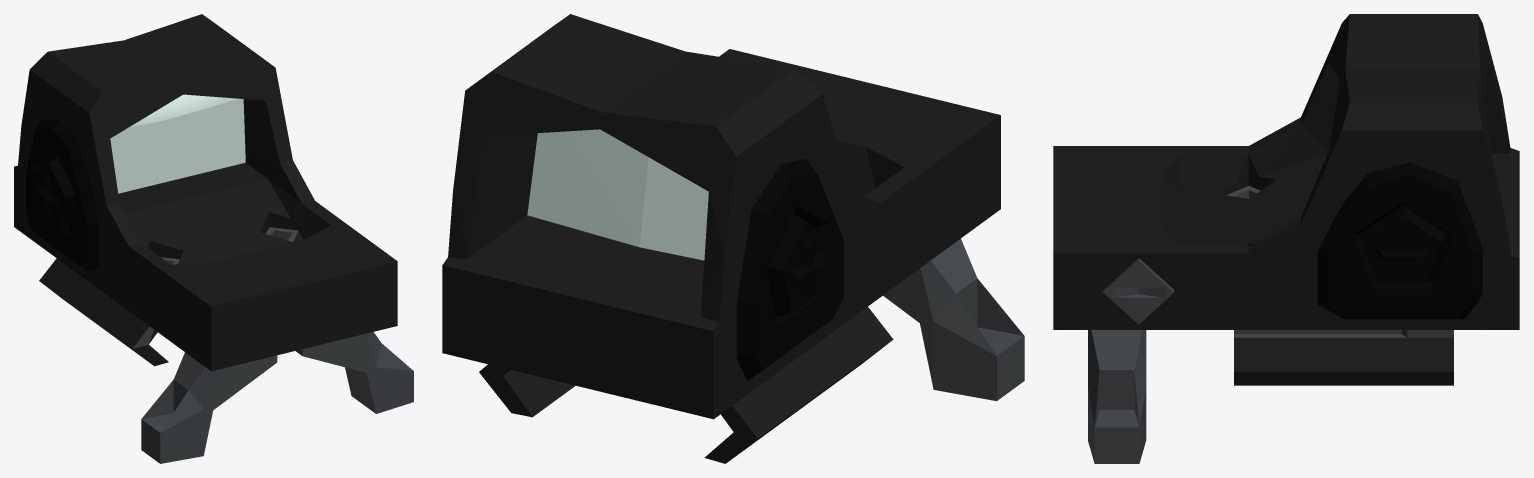
Rendered from RMR.fbx.
3 renders of one model, left to right at view 1: azimuth 30°, elevation 25°; view 2: azimuth 150°, elevation 25°; view 3: azimuth 270°, elevation 25°, orthographic. The views are drawn at different scales.
Parts seen in each view (by area): view 1: RMR_mount_rail; view 2: RMR_mount_rail; view 3: RMR_mount_rail.
Boxes of the visible parts, x1,y1,x2,y2 form: RMR_mount_rail: (14, 14, 413, 463); RMR_mount_rail: (442, 14, 1024, 463); RMR_mount_rail: (1053, 14, 1519, 463).
Bounding box in the file's own units: 3.39 × 3.6 × 4.57.
